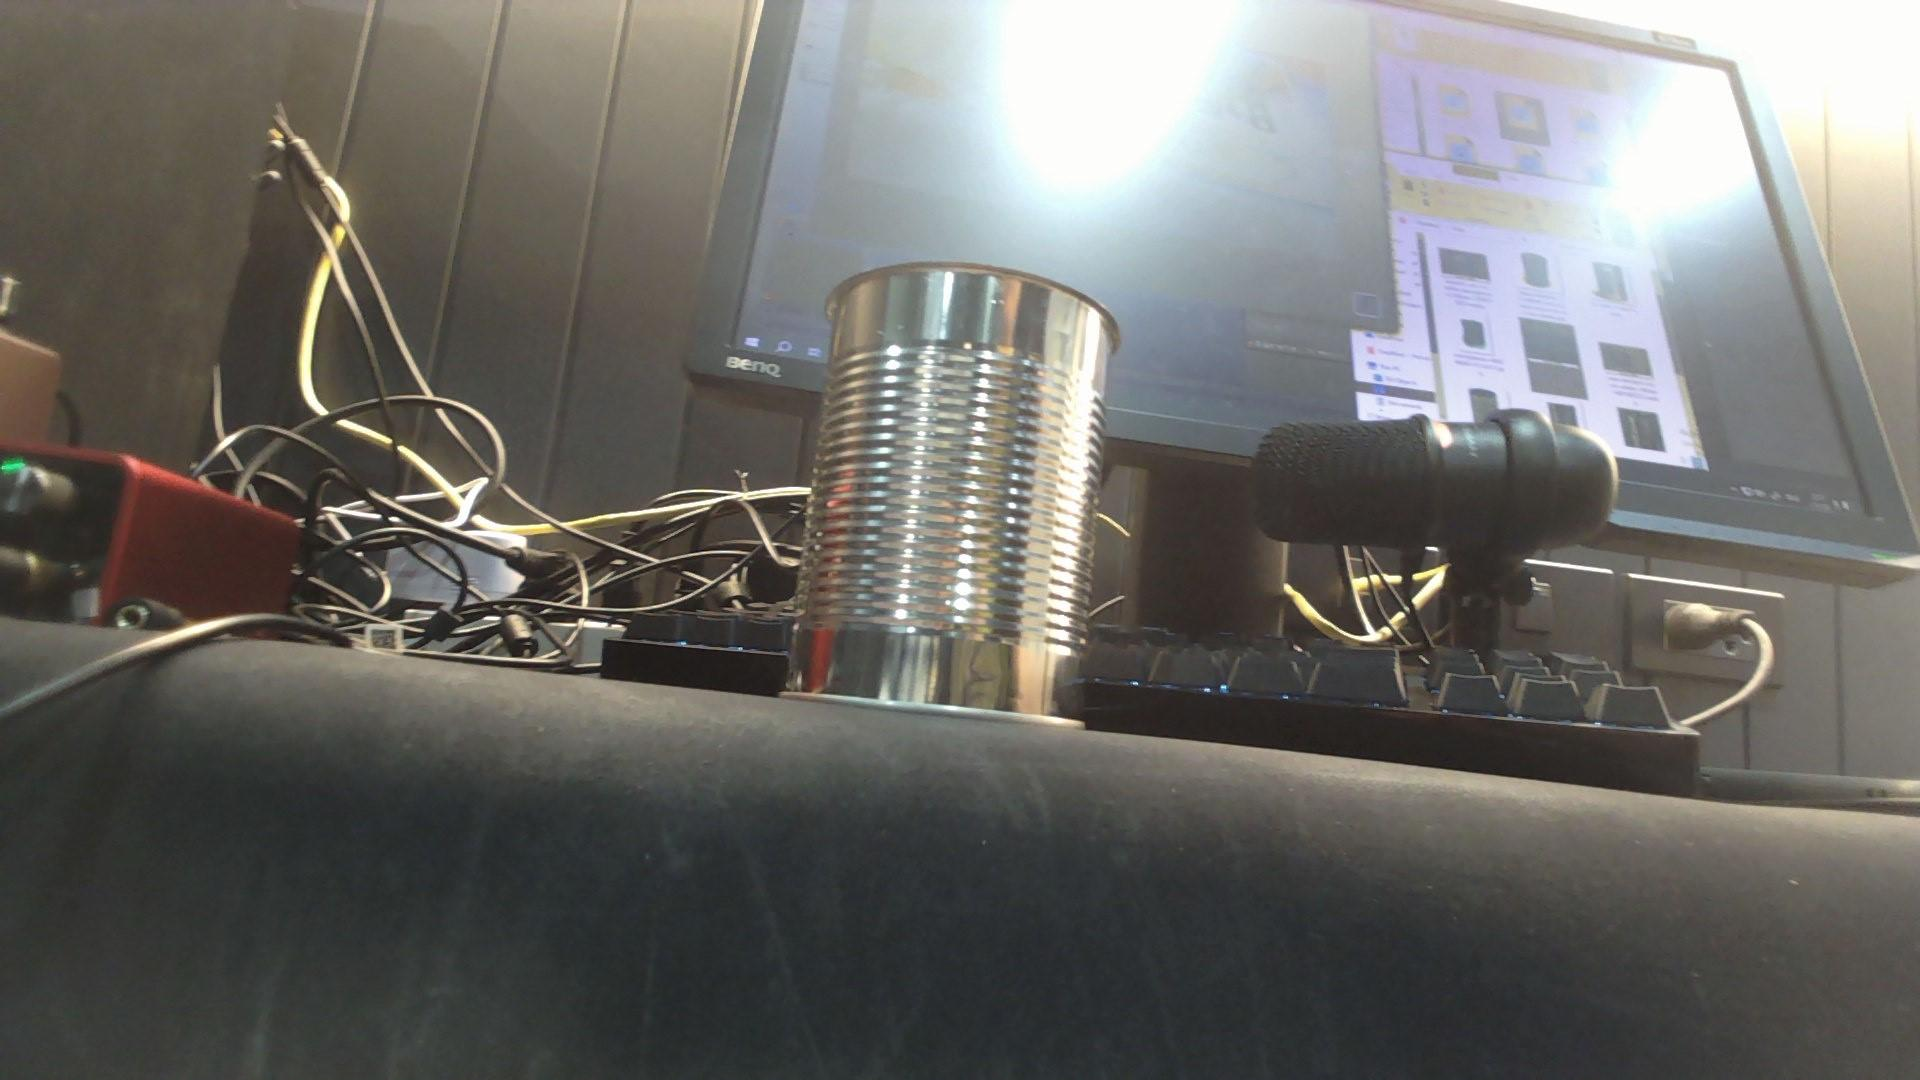metal: (815, 239, 1106, 737)
